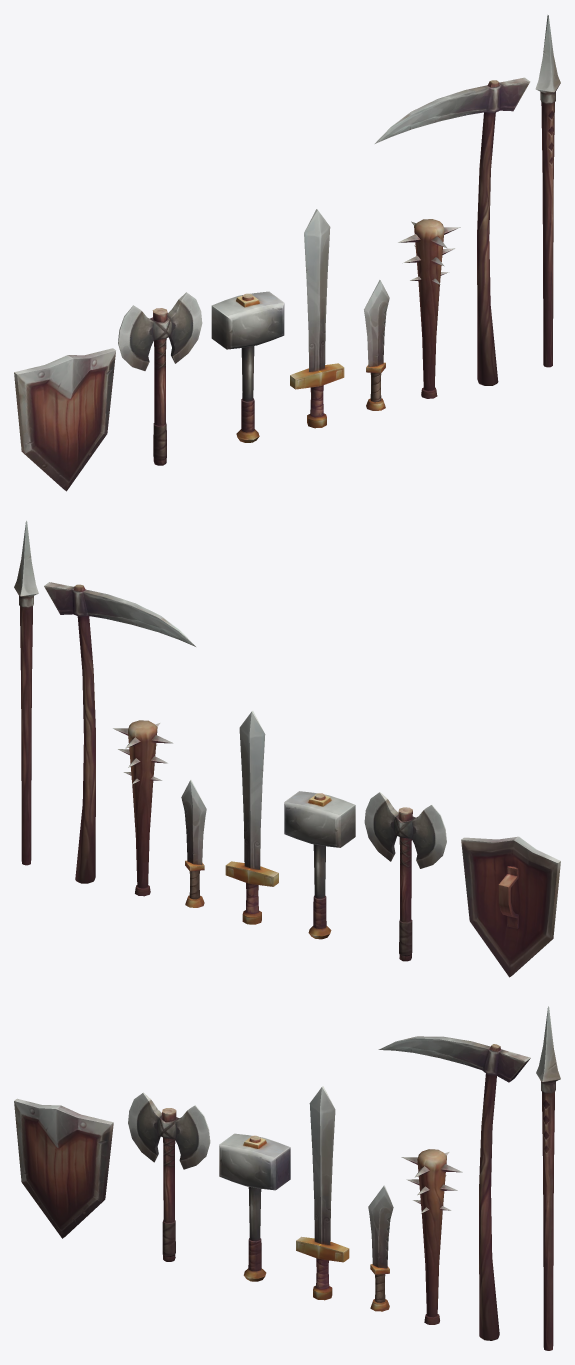
File: weapon_set.glb
3 views of the same model, one above another, from view 1: azimuth 30°, elevation 25°; view 2: azimuth 150°, elevation 25°; view 3: azimuth 330°, elevation 25° (orthographic). The views are drawn at different scales.
Parts seen in each view (by area): view 1: Shield_Material.002_0, Scythe_Material.002_0, Axe_Material.002_0, Hammer_Material.002_0, Sword_Material.002_0, Spear_Material.002_0, Club_Material.002_0, Dagger_Material.002_0; view 2: Shield_Material.002_0, Scythe_Material.002_0, Axe_Material.002_0, Hammer_Material.002_0, Sword_Material.002_0, Spear_Material.002_0, Club_Material.002_0, Dagger_Material.002_0; view 3: Shield_Material.002_0, Scythe_Material.002_0, Axe_Material.002_0, Hammer_Material.002_0, Sword_Material.002_0, Spear_Material.002_0, Club_Material.002_0, Dagger_Material.002_0.
Part boxes in pixels (x1,y1,x2,y2): Shield_Material.002_0: (14, 348, 115, 491); Scythe_Material.002_0: (375, 77, 530, 385); Axe_Material.002_0: (118, 292, 202, 465); Hammer_Material.002_0: (211, 291, 284, 442); Sword_Material.002_0: (290, 209, 344, 428); Spear_Material.002_0: (535, 15, 560, 367); Club_Material.002_0: (398, 219, 460, 398); Dagger_Material.002_0: (364, 280, 389, 410); Shield_Material.002_0: (461, 836, 560, 977); Scythe_Material.002_0: (44, 582, 195, 883); Axe_Material.002_0: (364, 792, 446, 961); Hammer_Material.002_0: (284, 791, 355, 939); Sword_Material.002_0: (225, 711, 278, 924); Spear_Material.002_0: (14, 520, 38, 865); Club_Material.002_0: (113, 720, 173, 896); Dagger_Material.002_0: (181, 780, 206, 907); Shield_Material.002_0: (14, 1098, 113, 1238); Scythe_Material.002_0: (378, 1036, 530, 1340); Axe_Material.002_0: (128, 1092, 210, 1261); Hammer_Material.002_0: (219, 1133, 290, 1281); Sword_Material.002_0: (296, 1086, 349, 1300); Spear_Material.002_0: (536, 1006, 560, 1350); Club_Material.002_0: (401, 1149, 462, 1324); Dagger_Material.002_0: (368, 1185, 393, 1311).
Bounding box in the file's own units: 2.38 × 1.46 × 0.2736.
Materials: 1 (1 with a texture image).
